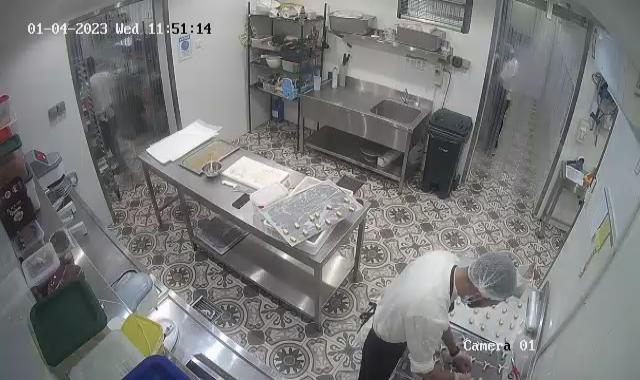hairnet: (467, 250, 518, 306)
